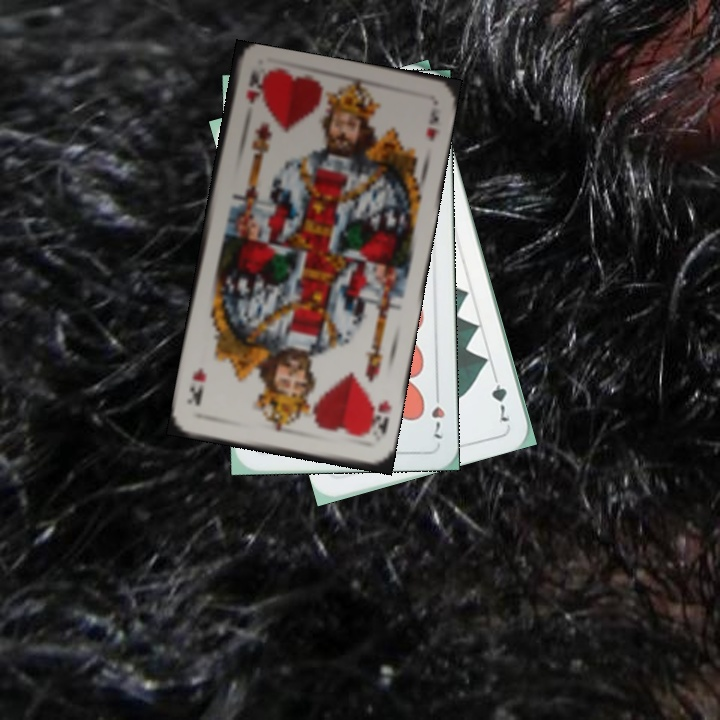G7: (487, 367, 512, 427)
H7: (428, 385, 448, 441)
HK: (362, 393, 394, 437), (242, 68, 265, 107)
